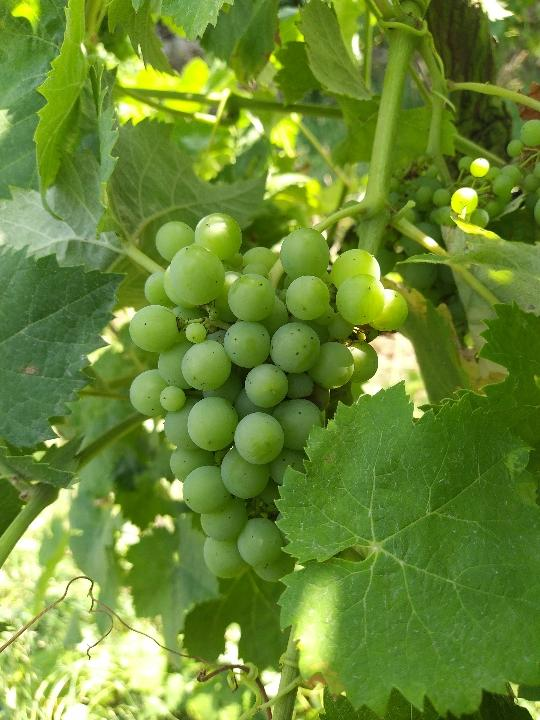grape: (127, 212, 409, 582)
